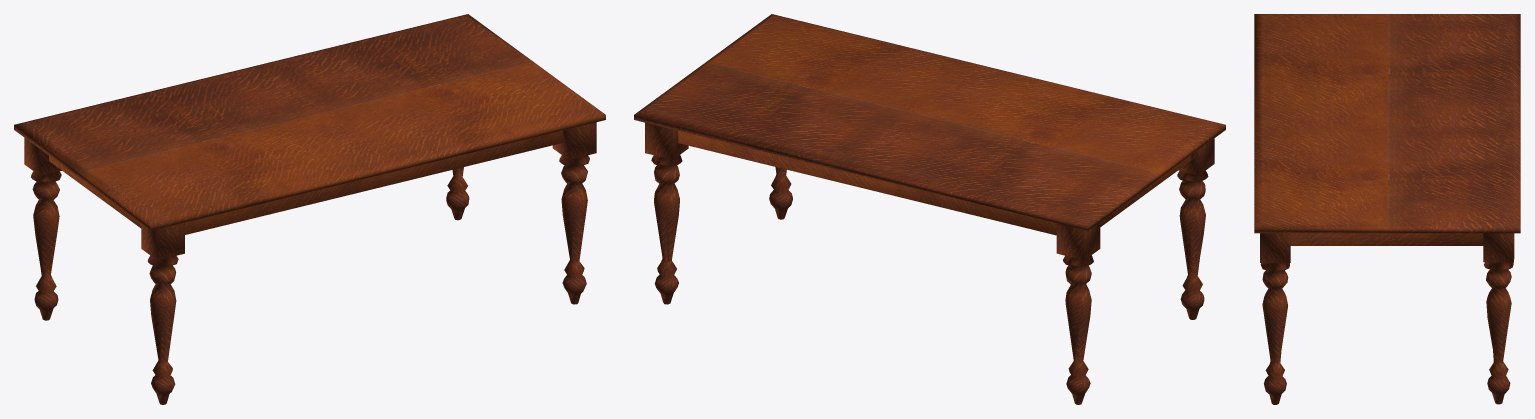
File: DiningTableLOD.fbx
3 views of the same model, side by side, from view 1: azimuth 30°, elevation 25°; view 2: azimuth 150°, elevation 25°; view 3: azimuth 270°, elevation 25° (orthographic). The views are drawn at different scales.
Visible parts, largest first — view 1: Dining Table_LOD0; view 2: Dining Table_LOD0; view 3: Dining Table_LOD0.
Part boxes in pixels (left/top/right/bottom): Dining Table_LOD0: left=14, top=14, right=605, bottom=404; Dining Table_LOD0: left=634, top=14, right=1225, bottom=404; Dining Table_LOD0: left=1254, top=14, right=1520, bottom=404.
Size of what is drawn, in the model's own units: 1325 by 542 by 696.
